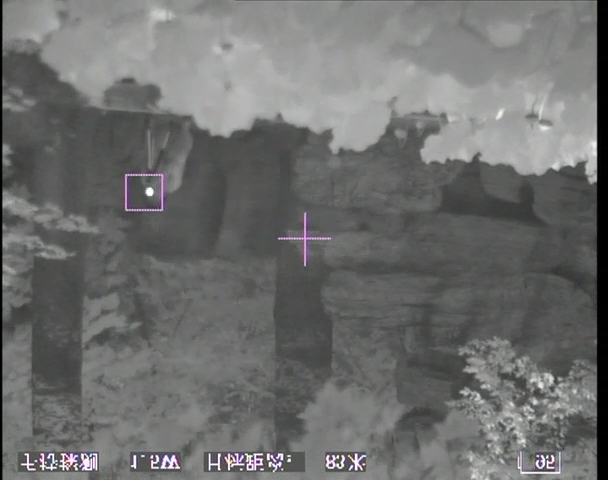my: (144, 186, 155, 198)
